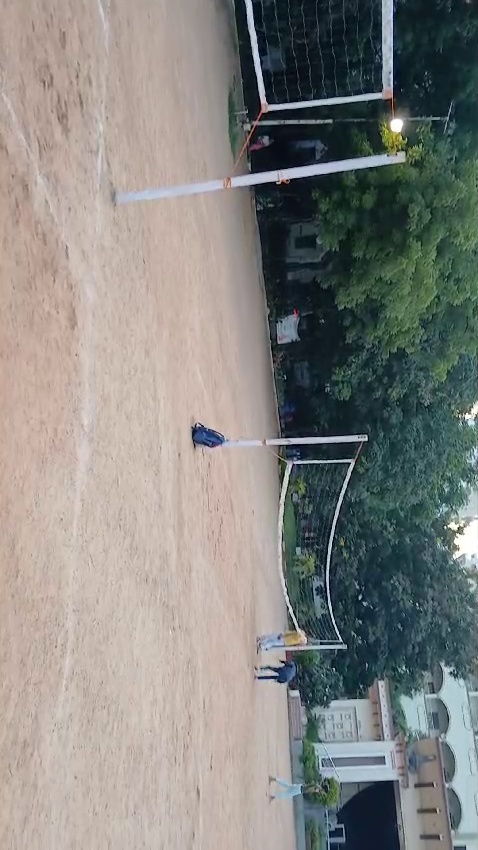bag: (183, 422, 231, 459)
